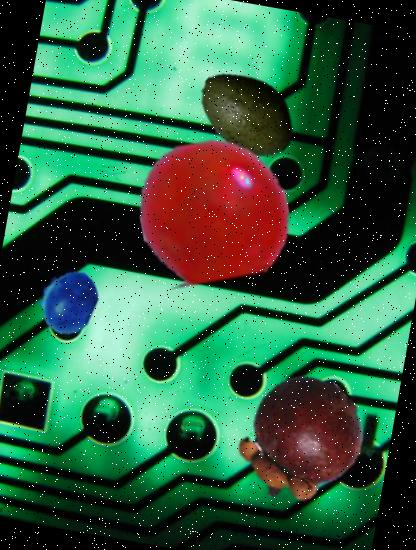Avocado: (186, 51, 309, 173)
Huckleberry: (30, 264, 106, 339)
Mangostan: (227, 364, 374, 512)
Redcurrant: (127, 125, 298, 296)
